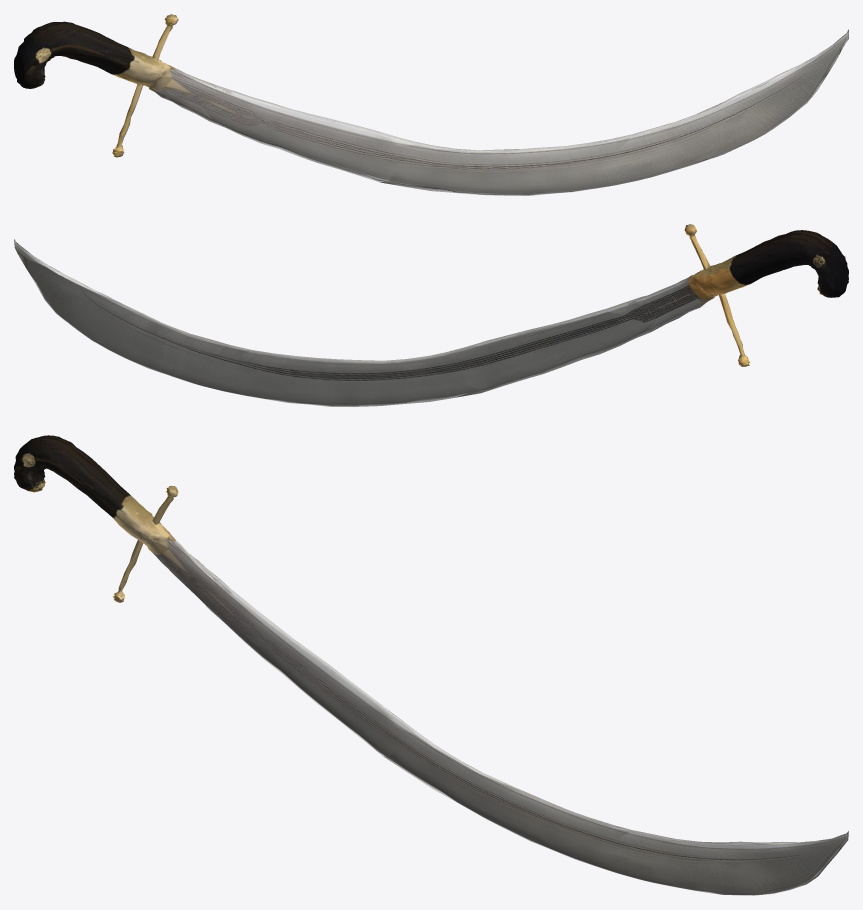
The model's file is kilij-sword-alternative.glb.
3 renders of one model, top to bottom at view 1: azimuth 30°, elevation 25°; view 2: azimuth 150°, elevation 25°; view 3: azimuth 330°, elevation 25°, orthographic.
Visible parts, largest first — view 1: mesh_node; view 2: mesh_node; view 3: mesh_node.
Boxes of the visible parts, <box> form: mesh_node: <box>14,14,848,195</box>; mesh_node: <box>14,224,848,406</box>; mesh_node: <box>14,435,848,895</box>.
Size of the model in its own units: 0.95 by 0.3284 by 0.0332.
1 material, 1 textured.
